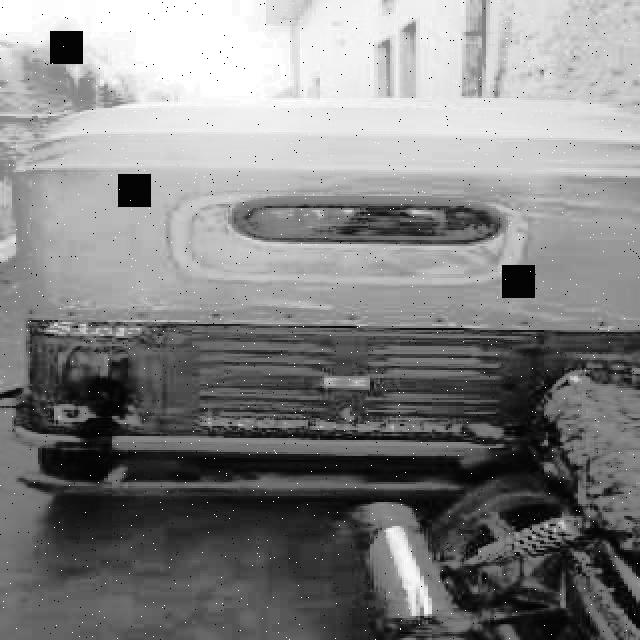Auto-Rickshaw: (24, 94, 640, 510)
